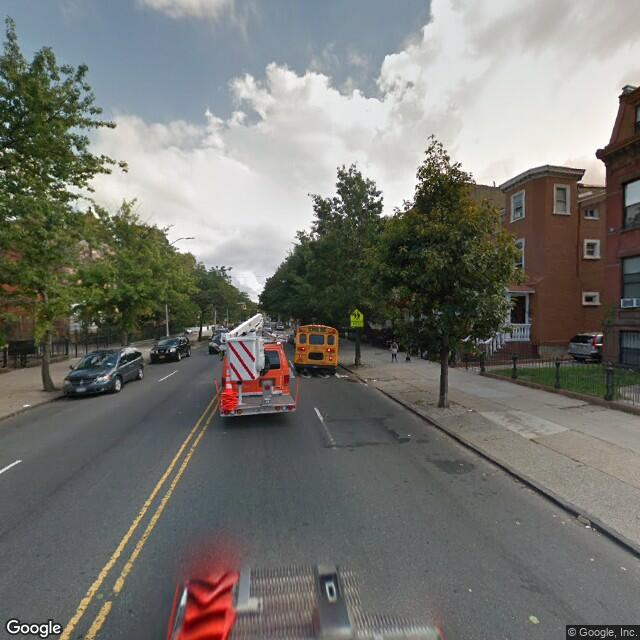litter: (619, 563, 628, 572), (528, 615, 538, 623), (584, 523, 594, 531), (588, 554, 596, 563), (22, 402, 32, 408), (467, 587, 471, 594), (514, 519, 520, 523)
